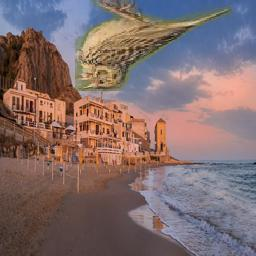Sparrow: (76, 1, 233, 92)
